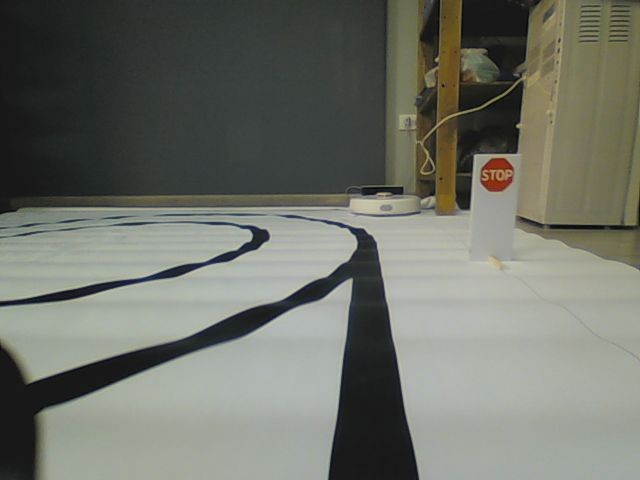Stop: (477, 158, 516, 192)
